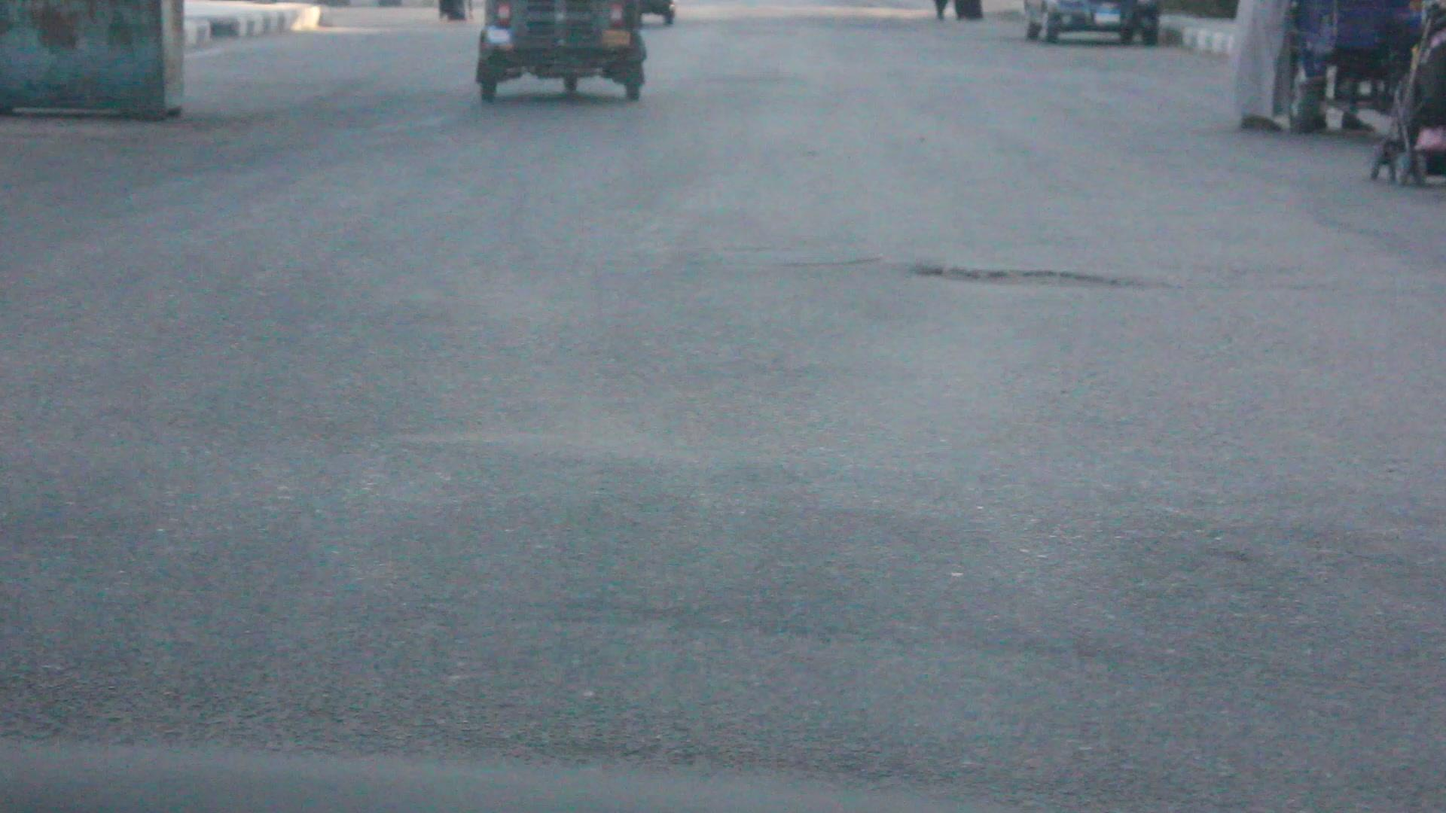Bump: (13, 454, 1446, 668)
Pothole: (889, 248, 1156, 305)
